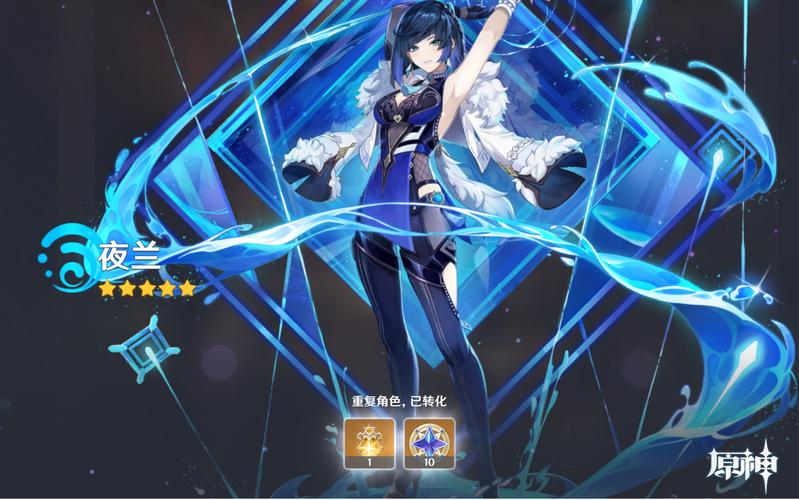夜兰: (355, 1, 522, 496)
